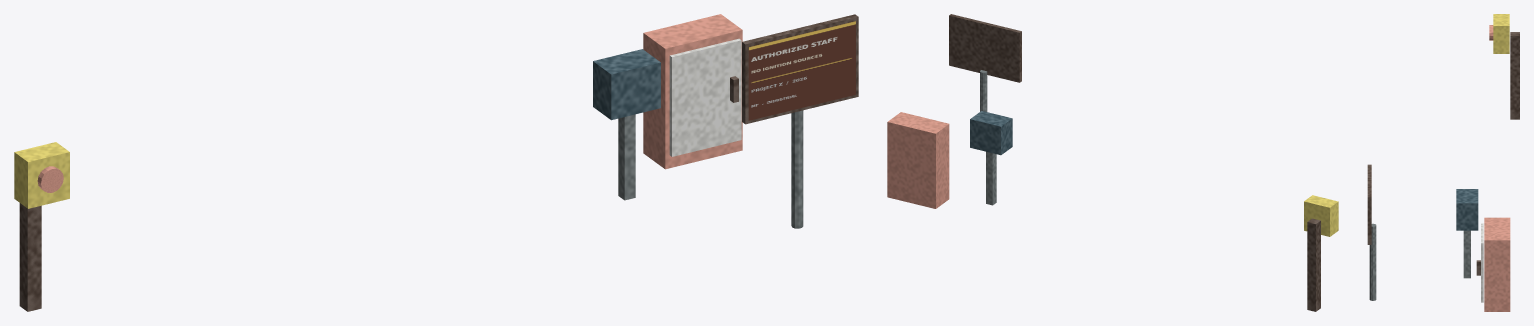
The model's file is PZ_Safety_Equipment.glb.
3 views of the same model, side by side, from view 1: azimuth 30°, elevation 25°; view 2: azimuth 150°, elevation 25°; view 3: azimuth 270°, elevation 25° (orthographic). The views are drawn at different scales.
Visible parts, largest first — view 1: No_Ignition_Sign_Graphic, Fire_Equipment_Cabinet_Door, Fire_Equipment_Cabinet, Instrument_Control_Conduit_Box, EStop_Station_Box, EStop_Station_Post, No_Ignition_Sign_Backing, Sign_Post, Instrument_Control_Conduit_Box_Stand; view 2: Fire_Equipment_Cabinet, No_Ignition_Sign_Backing, Instrument_Control_Conduit_Box, EStop_Station_Post, EStop_Station_Box, Instrument_Control_Conduit_Box_Stand, Sign_Post; view 3: Fire_Equipment_Cabinet, Instrument_Control_Conduit_Box, EStop_Station_Post, EStop_Station_Box, Sign_Post, No_Ignition_Sign_Backing, Instrument_Control_Conduit_Box_Stand, Fire_Equipment_Cabinet_Door.
Part boxes in pixels (left/top/right/bottom): No_Ignition_Sign_Graphic: left=748, top=21, right=855, bottom=120; Fire_Equipment_Cabinet_Door: left=669, top=38, right=741, bottom=156; Fire_Equipment_Cabinet: left=643, top=14, right=742, bottom=169; Instrument_Control_Conduit_Box: left=593, top=49, right=660, bottom=120; EStop_Station_Box: left=14, top=142, right=69, bottom=208; EStop_Station_Post: left=19, top=203, right=41, bottom=311; No_Ignition_Sign_Backing: left=742, top=14, right=858, bottom=124; Sign_Post: left=791, top=110, right=803, bottom=228; Instrument_Control_Conduit_Box_Stand: left=618, top=114, right=635, bottom=200; Fire_Equipment_Cabinet: left=887, top=112, right=949, bottom=208; No_Ignition_Sign_Backing: left=949, top=14, right=1021, bottom=82; Instrument_Control_Conduit_Box: left=970, top=111, right=1012, bottom=155; EStop_Station_Post: left=1307, top=218, right=1320, bottom=311; EStop_Station_Box: left=1304, top=195, right=1338, bottom=236; Instrument_Control_Conduit_Box_Stand: left=986, top=151, right=996, bottom=205; Sign_Post: left=980, top=70, right=987, bottom=111; Fire_Equipment_Cabinet: left=1484, top=217, right=1510, bottom=311; Instrument_Control_Conduit_Box: left=1456, top=189, right=1478, bottom=230; EStop_Station_Post: left=1510, top=32, right=1519, bottom=119; EStop_Station_Box: left=1493, top=14, right=1509, bottom=53; Sign_Post: left=1369, top=223, right=1376, bottom=300; No_Ignition_Sign_Backing: left=1367, top=164, right=1371, bottom=244; Instrument_Control_Conduit_Box_Stand: left=1463, top=230, right=1470, bottom=278; Fire_Equipment_Cabinet_Door: left=1481, top=223, right=1483, bottom=302.
Bounding box in the file's own units: 7.3 × 2.02 × 2.24.
Materials: 7 (7 with a texture image).
